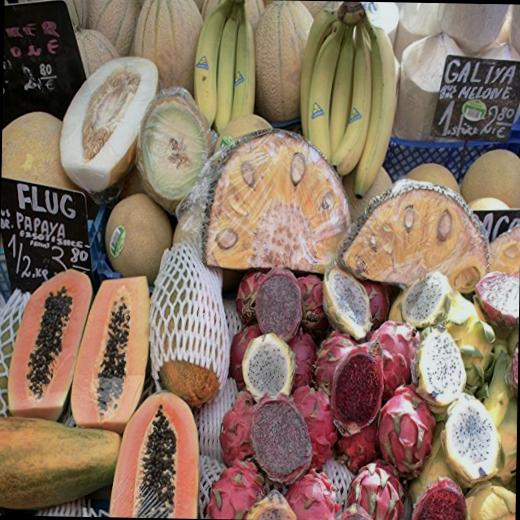Banana: (298, 1, 399, 203), (195, 0, 234, 126), (209, 0, 240, 137), (232, 4, 257, 114)
